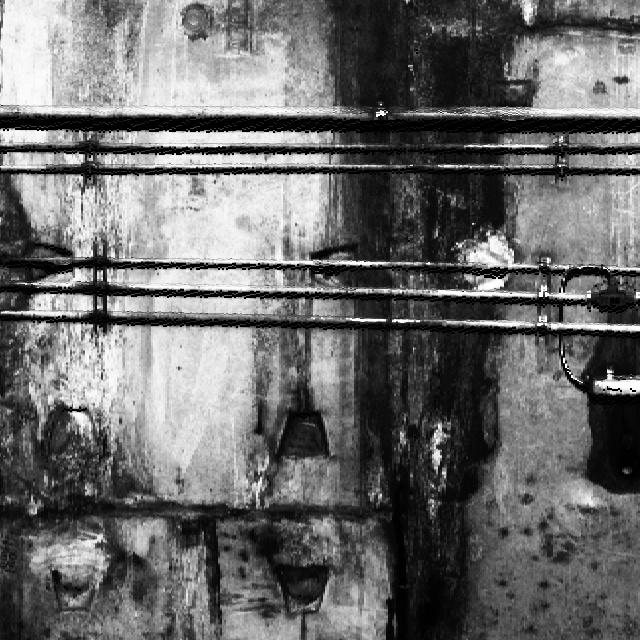leakage: (306, 0, 523, 639), (3, 161, 204, 639), (571, 284, 639, 502)
